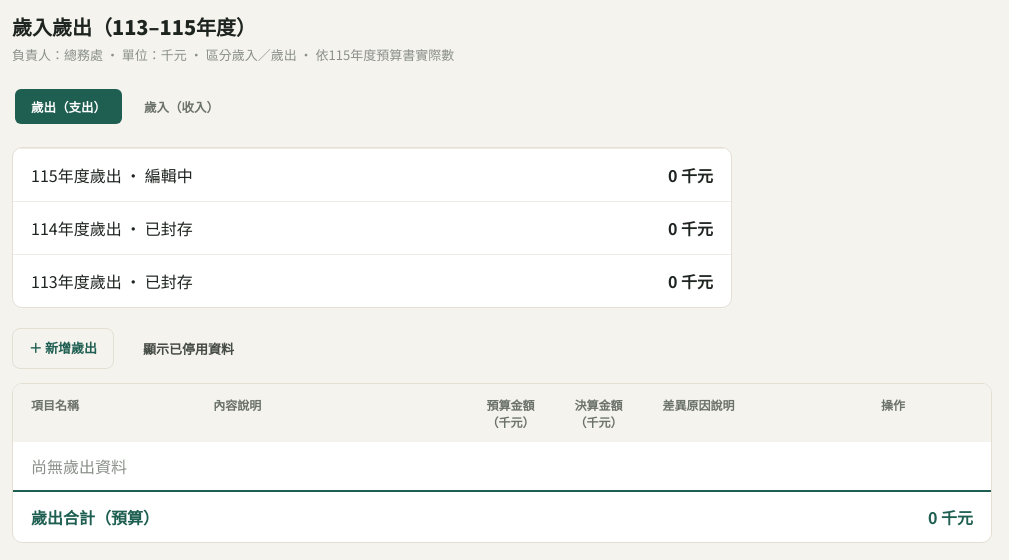
Test: record page invocation guards › Budget rechecks live authorization, Shell year, year meta, and records readiness for retained controls
Click the button "＋ 新增歲出" at coordinates (63, 348), box [12,328,114,369]
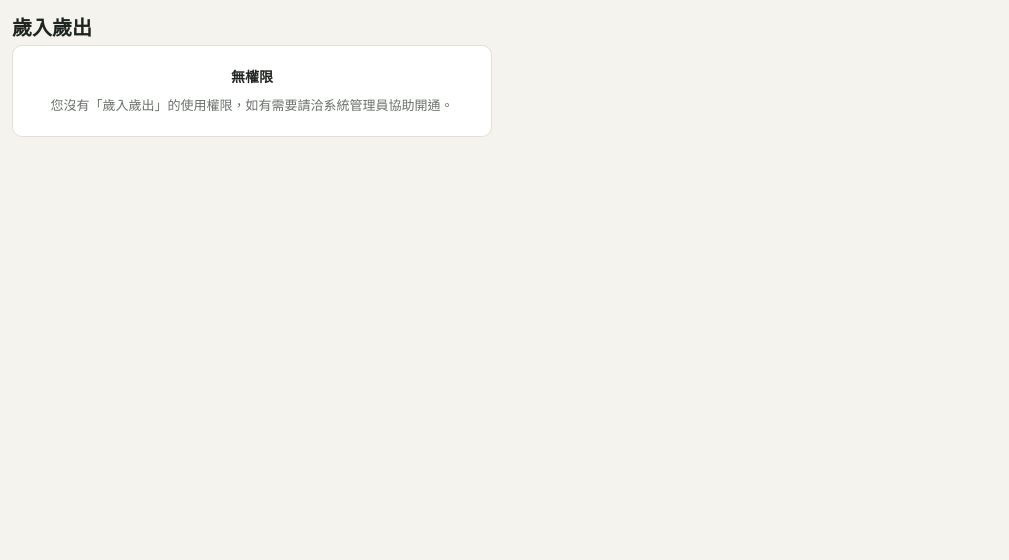
Check: the text "無權限" is shown, box [231,66,273,86]
